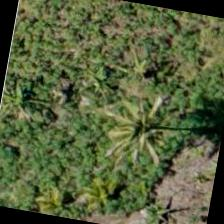Kelapa_Sawit: (84, 82, 188, 187)
